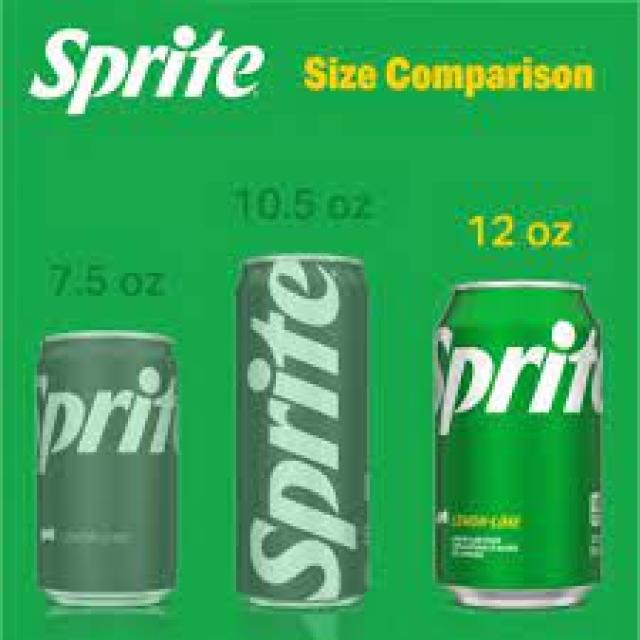Cans: (427, 273, 617, 617)
